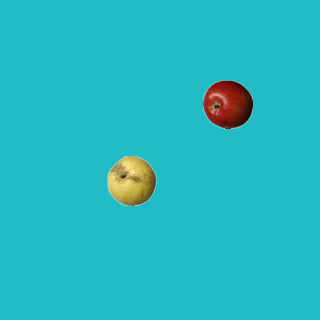Apple Braeburn: (202, 79, 252, 129)
Apple Golden 1: (106, 155, 156, 205)
